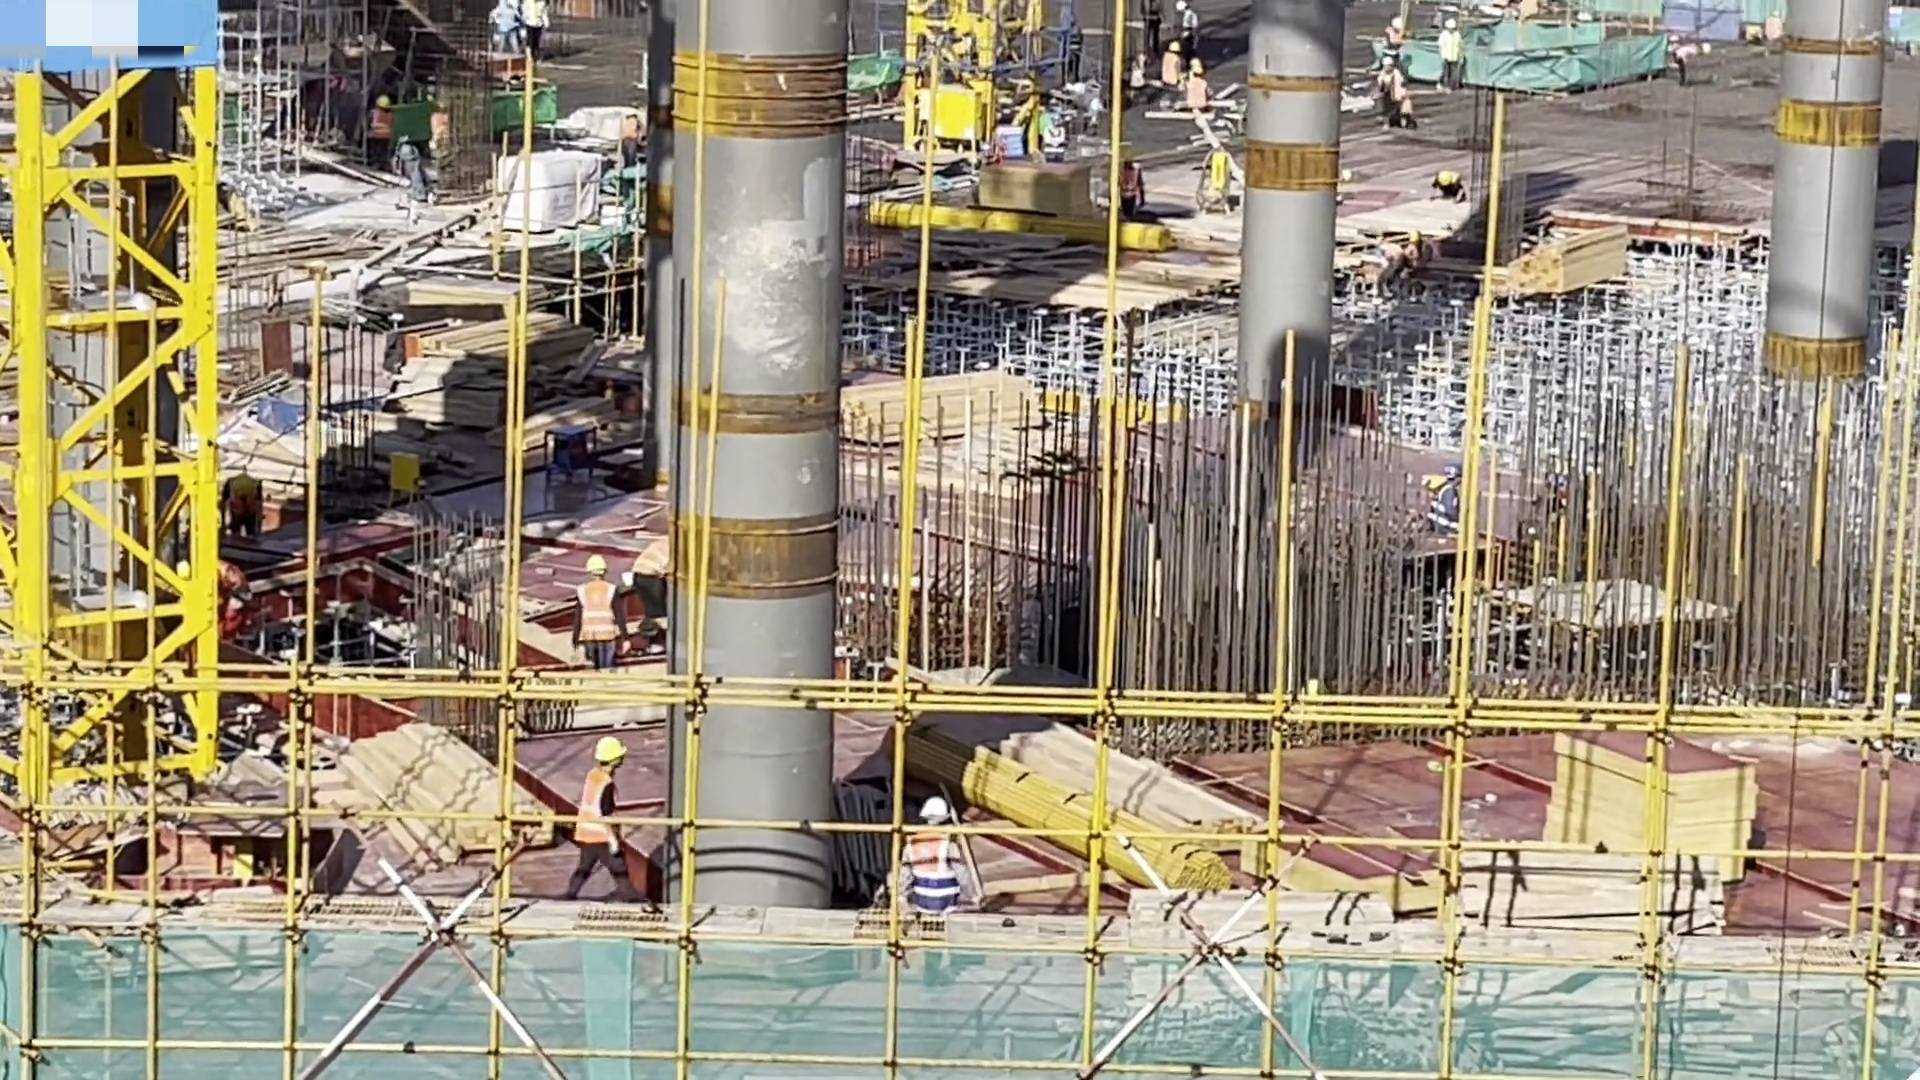board: (1539, 727, 1756, 864), (390, 308, 600, 411)
helmet: (917, 796, 950, 823), (592, 738, 629, 760), (584, 554, 609, 575)
person: (561, 730, 647, 896), (883, 791, 962, 927), (565, 549, 620, 653), (1115, 152, 1154, 219), (395, 135, 428, 203), (1377, 15, 1409, 85), (1376, 55, 1402, 135), (1439, 14, 1463, 101), (364, 91, 389, 173), (422, 102, 454, 165), (1188, 64, 1218, 131), (1429, 162, 1467, 211), (1155, 36, 1184, 98)
vest: (905, 837, 958, 911), (574, 769, 621, 851), (580, 584, 613, 640)
wood: (982, 724, 1286, 911), (324, 724, 552, 869), (1447, 839, 1729, 945), (842, 366, 1043, 441), (1493, 229, 1629, 292)
